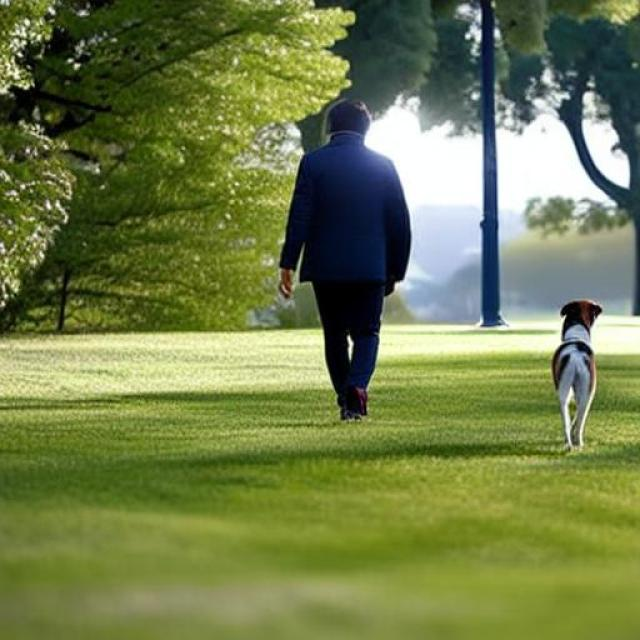Unleashed_Dog: (310, 278, 602, 452)
